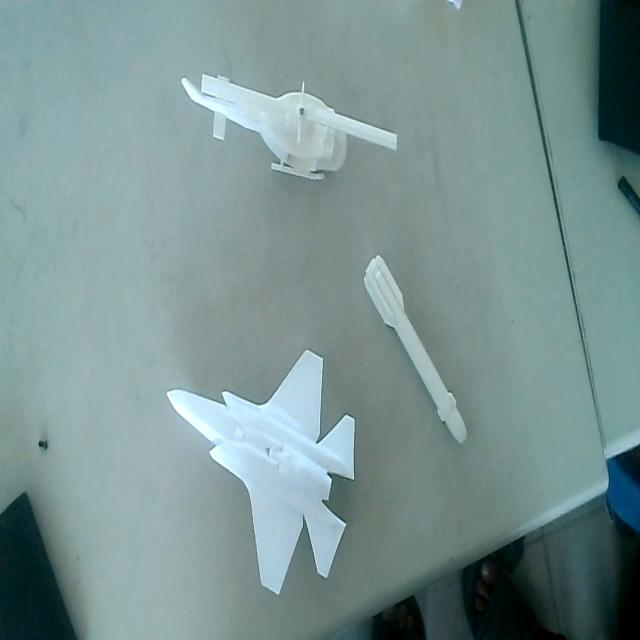Helicopter: (178, 55, 400, 191)
Jet: (162, 340, 356, 597)
Rocket: (362, 244, 472, 449)
